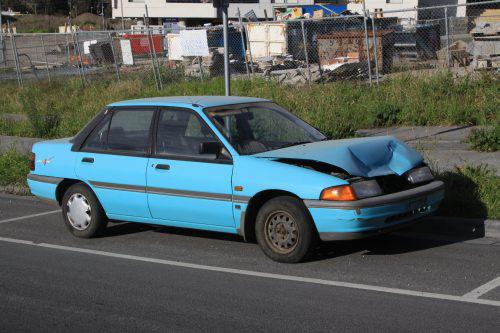bonnet-dent: (292, 134, 430, 177)
